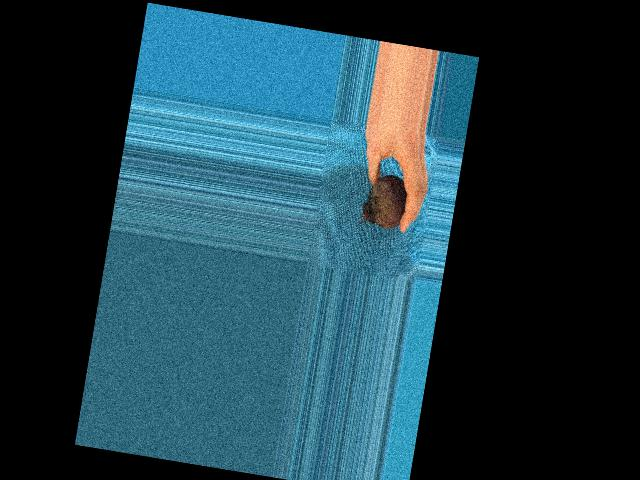beet: (358, 171, 409, 231)
